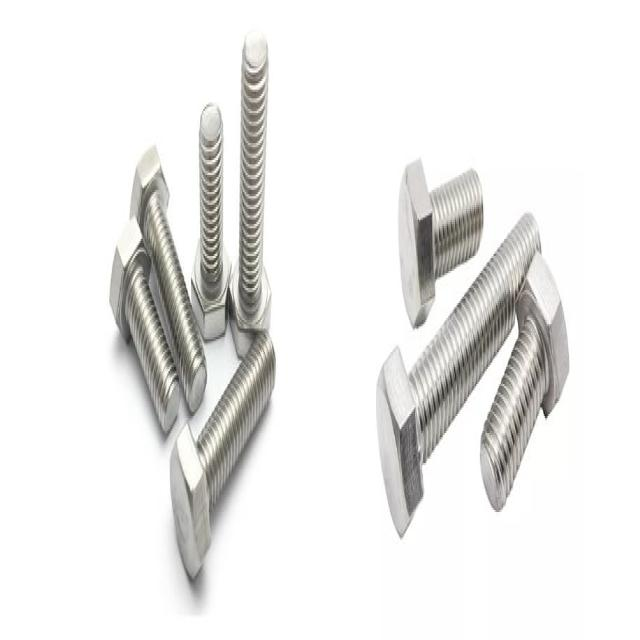Bolt: (377, 213, 541, 539), (170, 330, 276, 586), (480, 248, 571, 516), (130, 140, 208, 417), (108, 213, 181, 434), (229, 27, 273, 363), (398, 159, 483, 328), (189, 101, 233, 343)
